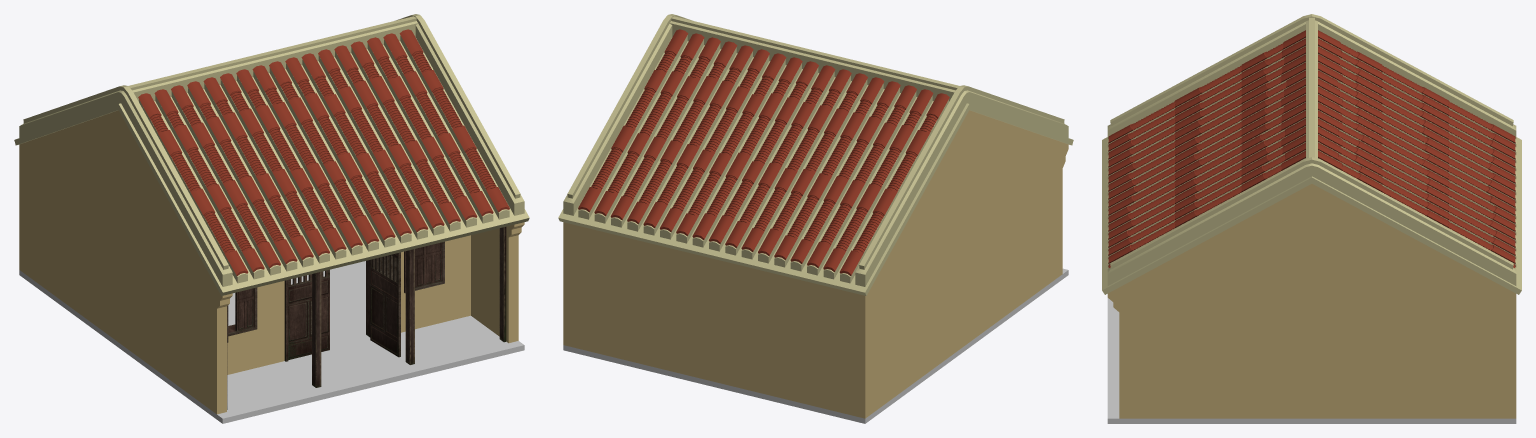
The model's file is CASAMOTORESBLENDERPRUEBA.fbx.
3 renders of one model, left to right at view 1: azimuth 30°, elevation 25°; view 2: azimuth 150°, elevation 25°; view 3: azimuth 270°, elevation 25°, orthographic.
Visible parts, largest first — view 1: HoiAn_M2; view 2: HoiAn_M2; view 3: HoiAn_M2.
Part boxes in pixels (bbox=[...]): HoiAn_M2: bbox=[14, 14, 529, 423]; HoiAn_M2: bbox=[558, 14, 1073, 423]; HoiAn_M2: bbox=[1102, 14, 1521, 423].
Size of the model in its own units: 610 by 497 by 719.
